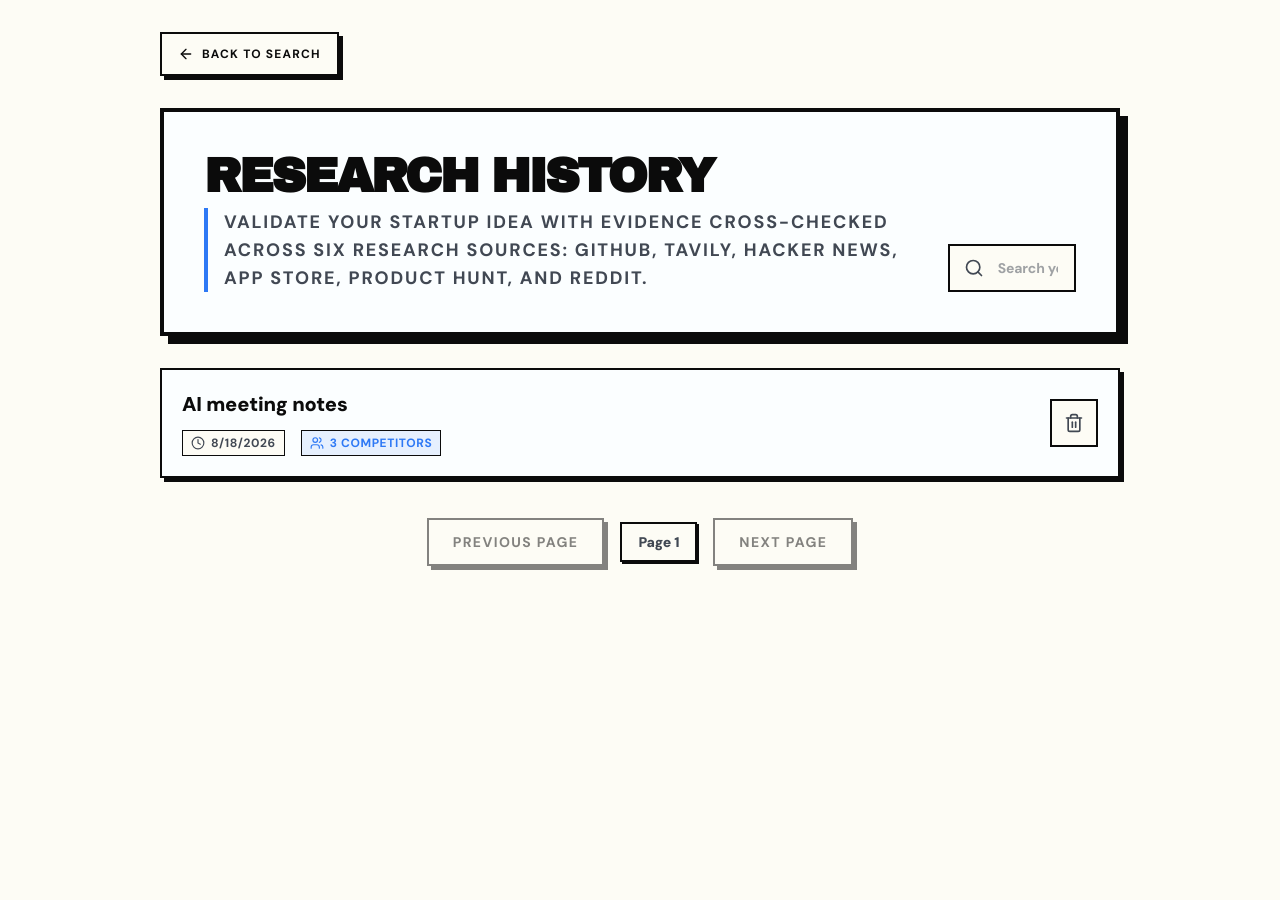
it: HistoryPage › shows deleting state and prevents duplicate delete clicks
Expected: the link "AI meeting notes" is shown, [182, 391, 348, 417]
Click the button named "delete report" at (1074, 423), box [1050, 399, 1098, 447]
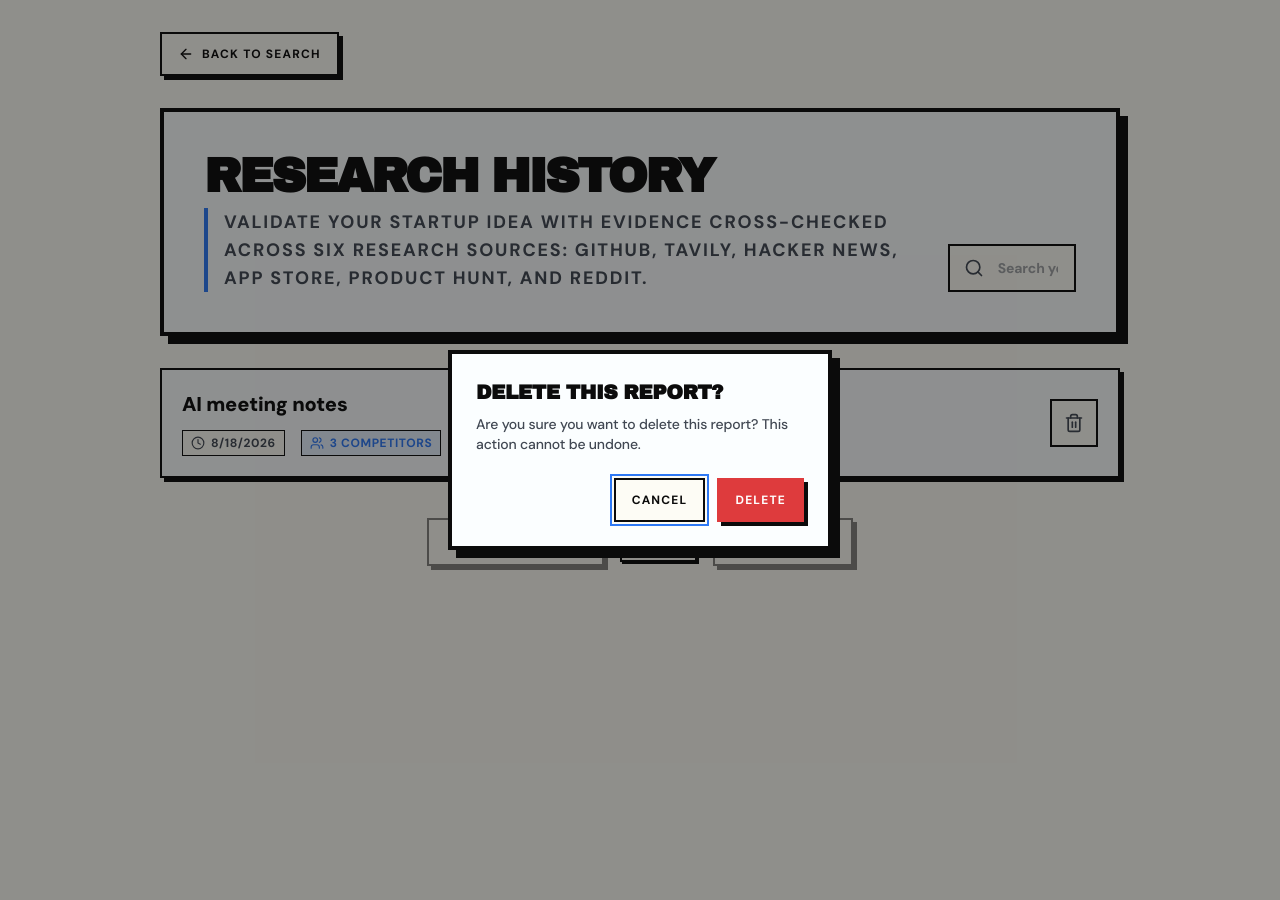
Click the button "Delete" at (761, 500), box [718, 478, 804, 522]
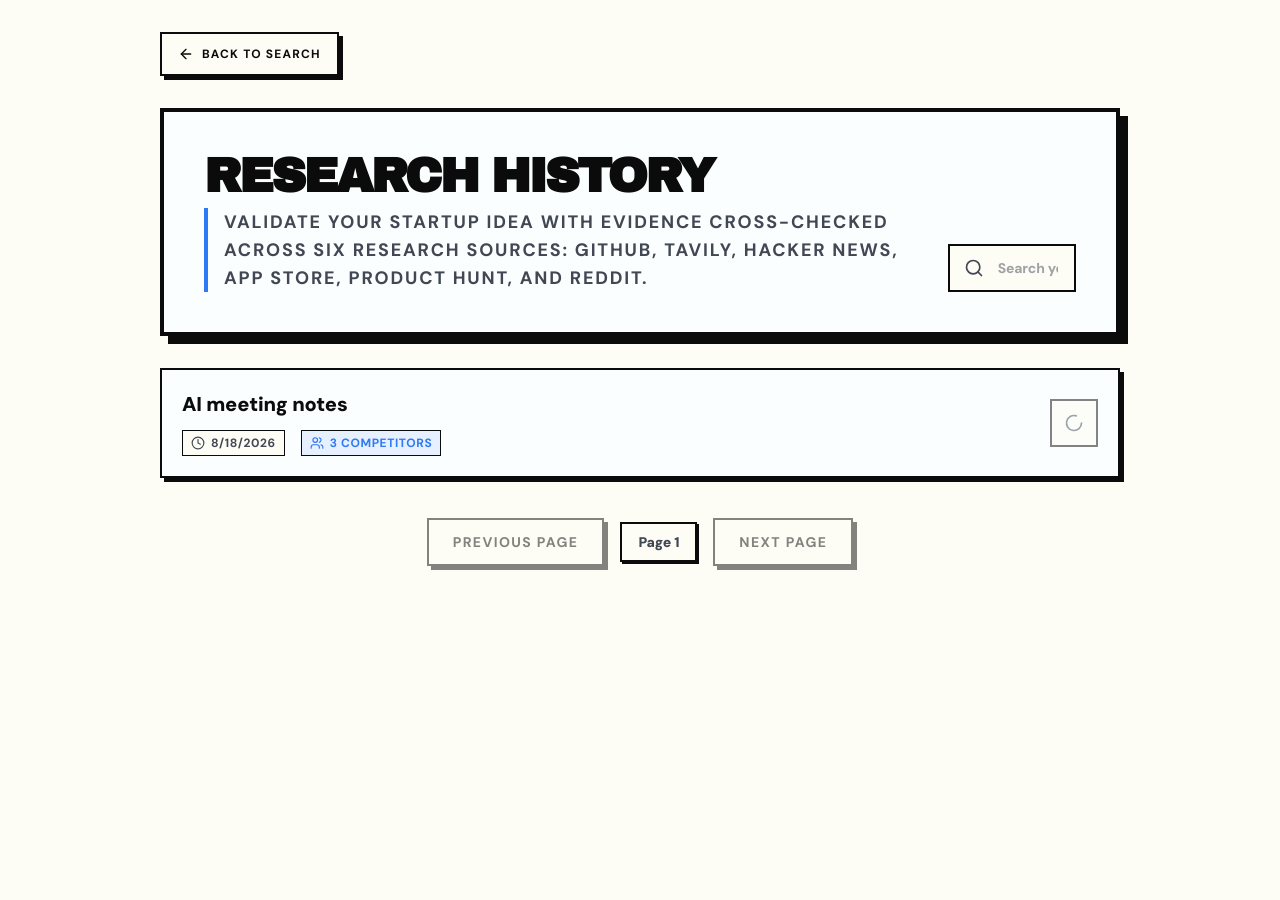
Expected: the button named "deleting report" is disabled
Click the button named "deleting report" at (1074, 423), box [1050, 399, 1098, 447]
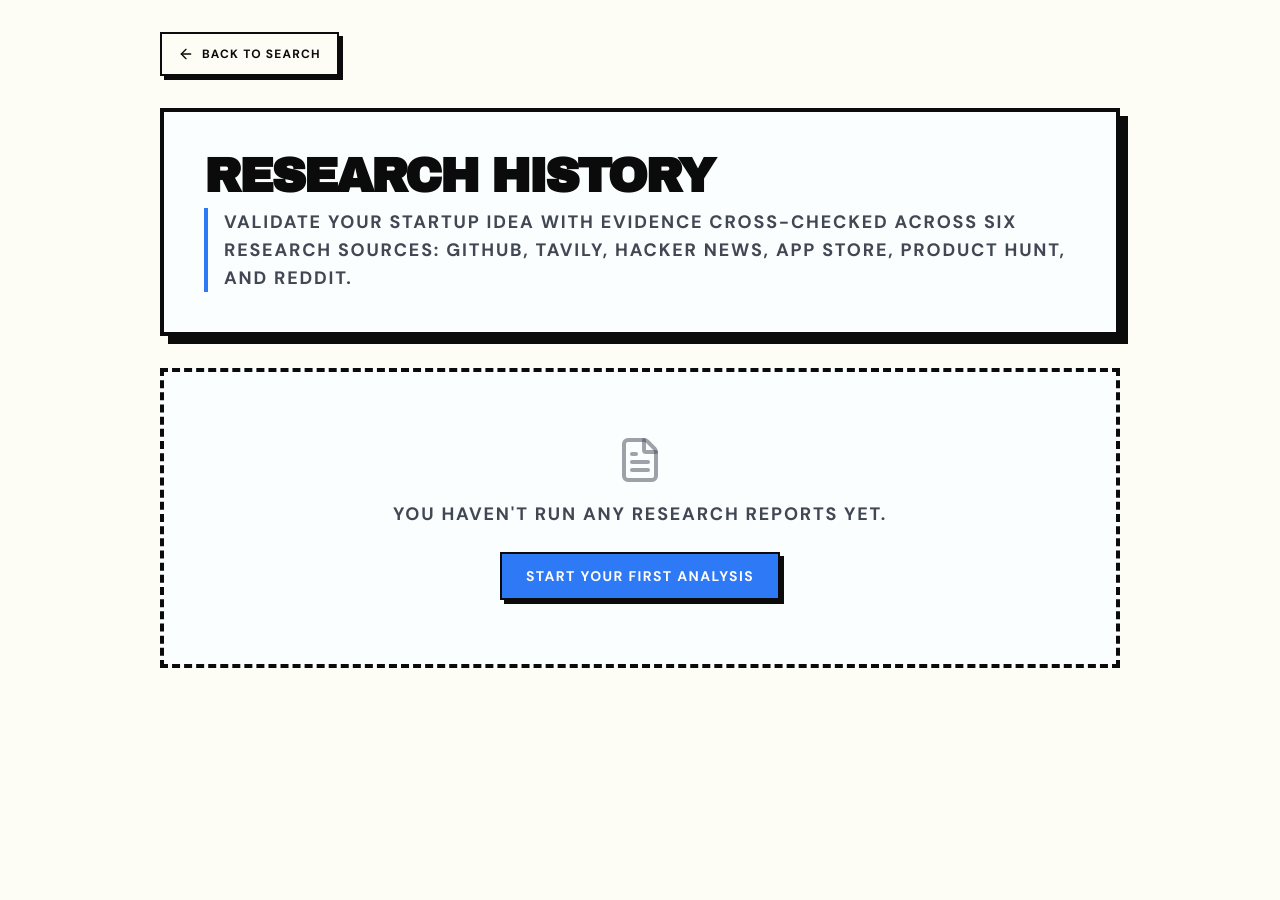
Expected: the link "AI meeting notes" is gone
